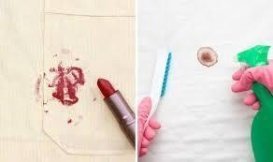blood: (197, 44, 220, 67)
lipstick: (46, 62, 96, 126), (29, 72, 48, 105), (49, 49, 83, 64)
